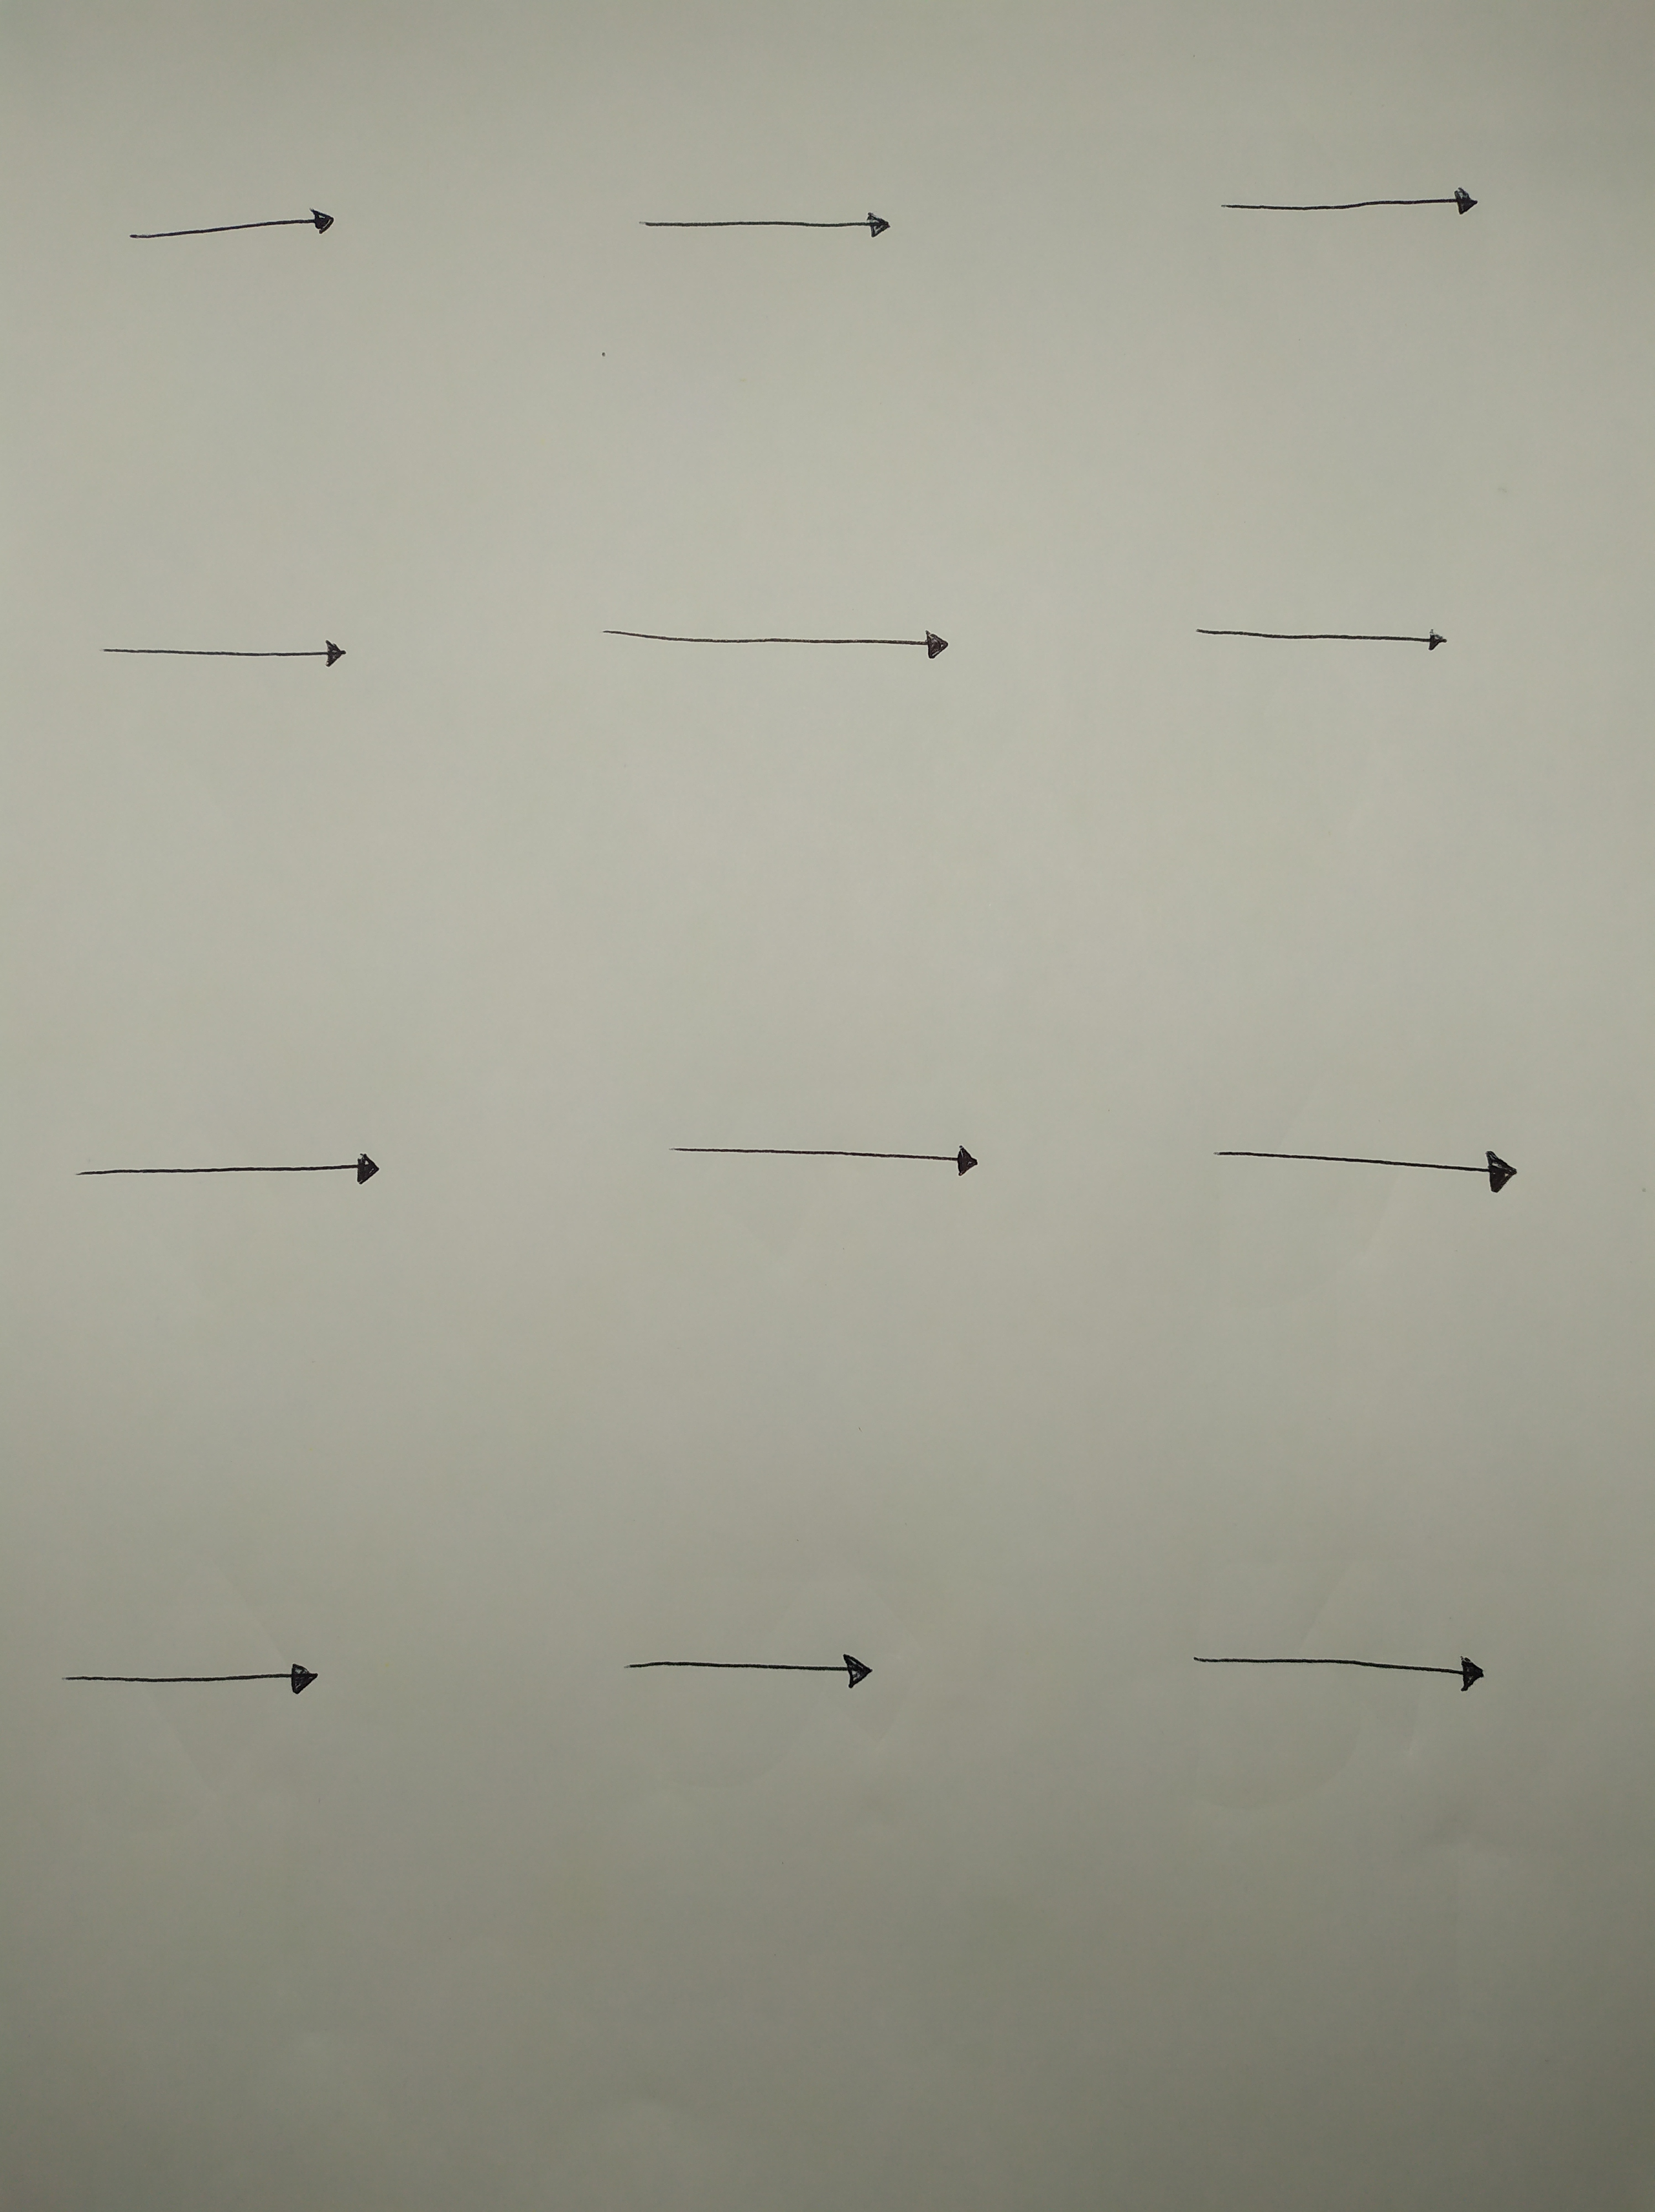arrow_line_right: (1179, 1105, 1580, 1229), (49, 1103, 421, 1222), (572, 593, 974, 693), (1170, 1607, 1545, 1710), (591, 165, 958, 268), (629, 1110, 1027, 1202), (591, 1618, 925, 1717), (1180, 594, 1509, 692), (1186, 153, 1512, 250), (80, 594, 396, 692), (35, 1639, 356, 1732), (110, 176, 353, 281)
